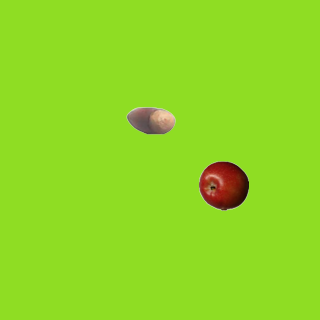Apple Braeburn: (198, 160, 248, 210)
Hazelnut: (125, 95, 175, 145)
